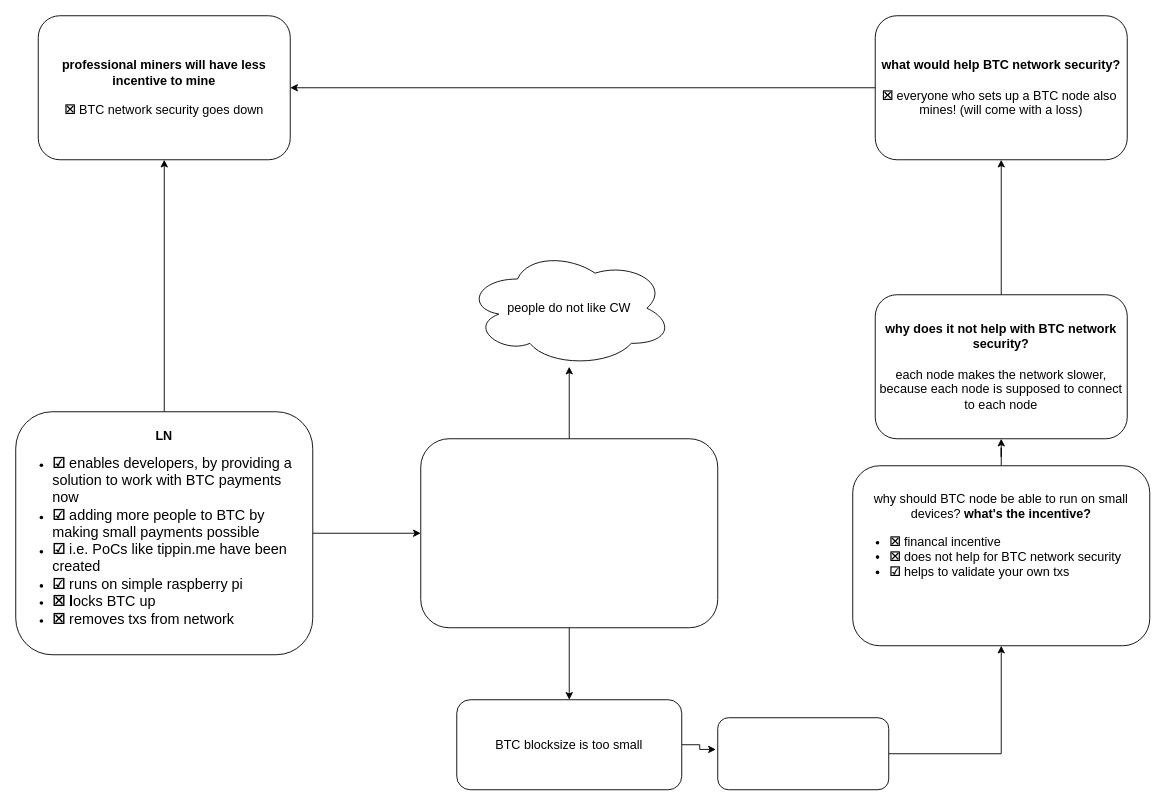
Image size: 1166x806. Some labels were removed from this diagram. The shapes that lost their labels are listed below. From the top down, each one's box as (x1, y1, x2, y2) in pixels, then its label:
(420, 438, 718, 628): can all be done with BSV this should be possible by just using BTC
(717, 717, 889, 790): BTC nodes should be able to be run on a raspberry bi
